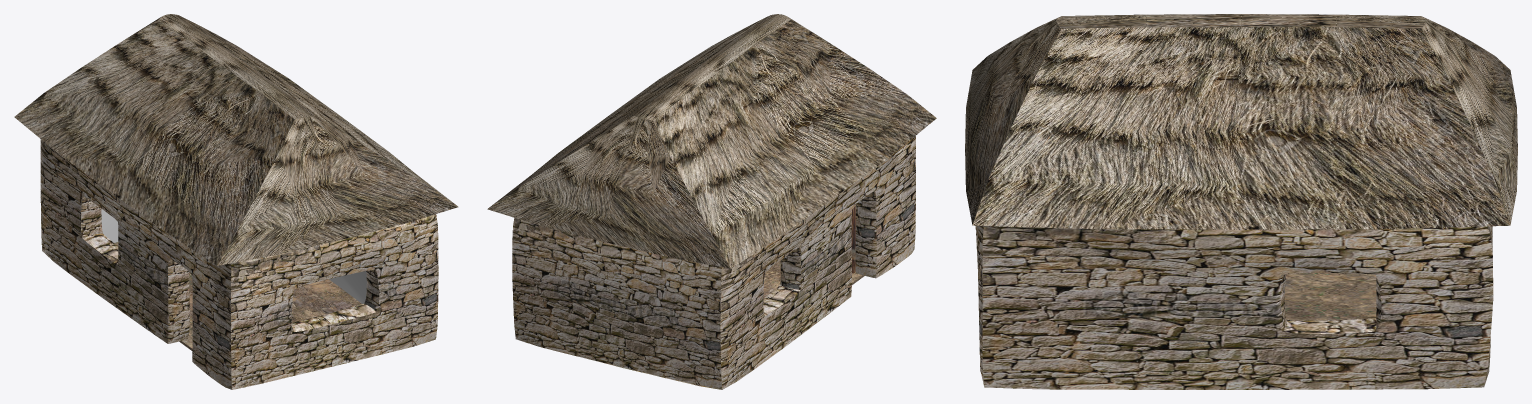
File: open house.FBX
3 renders of one model, left to right at view 1: azimuth 30°, elevation 25°; view 2: azimuth 150°, elevation 25°; view 3: azimuth 270°, elevation 25°, orthographic. The views are drawn at different scales.
Visible parts, largest first — view 1: Box007, Box008, Box010; view 2: Box007, Box008, Box010; view 3: Box007, Box008, Box010.
Boxes of the visible parts, x1,y1,x2,y2 form: Box007: (14,14,458,265); Box008: (40,139,438,389); Box010: (114,242,361,350); Box007: (487,14,936,268); Box008: (512,136,915,389); Box010: (763,261,864,298); Box007: (965,14,1517,229); Box008: (975,226,1493,389); Box010: (1284,273,1376,320).
Size of the model in its own units: 0.1524 by 0.1376 by 0.2226.
